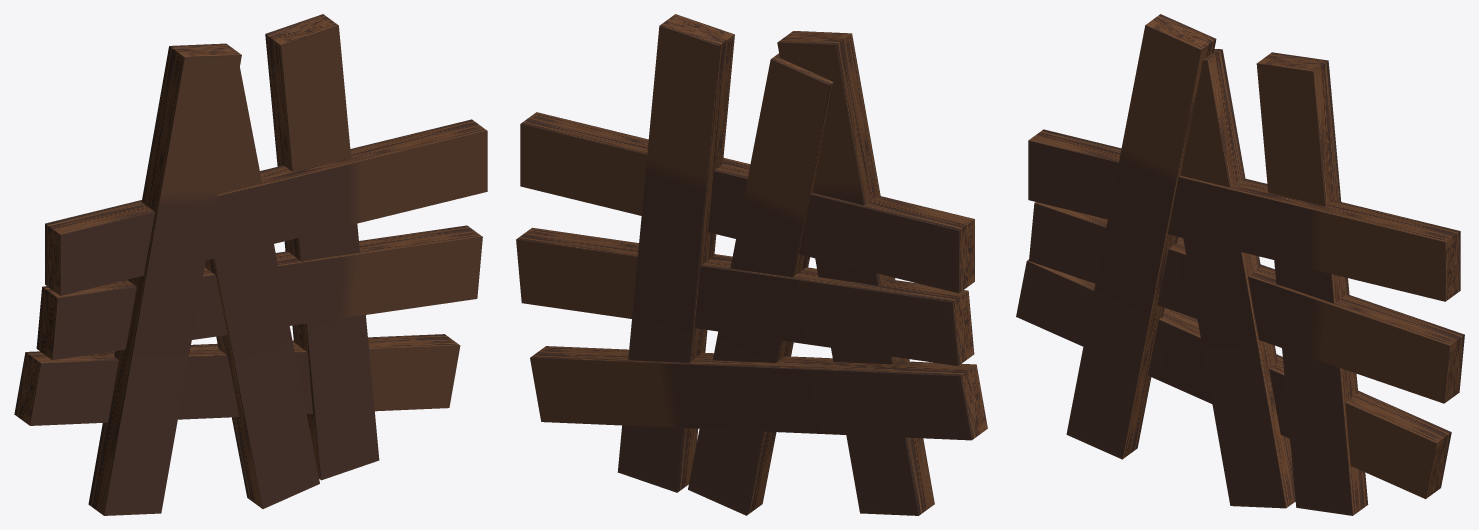
File: pz_g018_fencing_damaged_01_130.obj
3 renders of one model, left to right at view 1: azimuth 30°, elevation 25°; view 2: azimuth 150°, elevation 25°; view 3: azimuth 330°, elevation 25°, orthographic. The views are drawn at different scales.
Visible parts, largest first — view 1: pz_g018_fencing_damaged_01_130; view 2: pz_g018_fencing_damaged_01_130; view 3: pz_g018_fencing_damaged_01_130.
Boxes of the visible parts, x1,y1,x2,y2 form: pz_g018_fencing_damaged_01_130: (14,14,487,515); pz_g018_fencing_damaged_01_130: (516,14,987,515); pz_g018_fencing_damaged_01_130: (1016,14,1464,515).
Size of the model in its own units: 0.6932 by 0.7019 by 0.072.
1 material, 1 textured.
